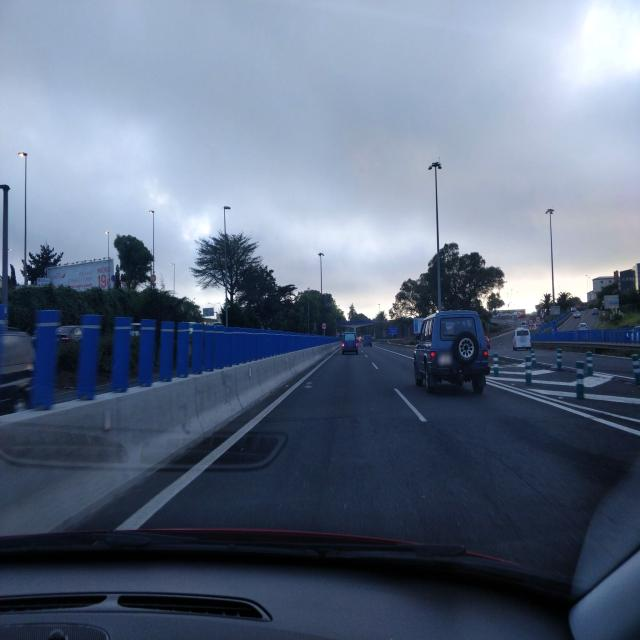car: (412, 310, 490, 394), (512, 328, 532, 351), (341, 333, 359, 355), (362, 334, 373, 347)
